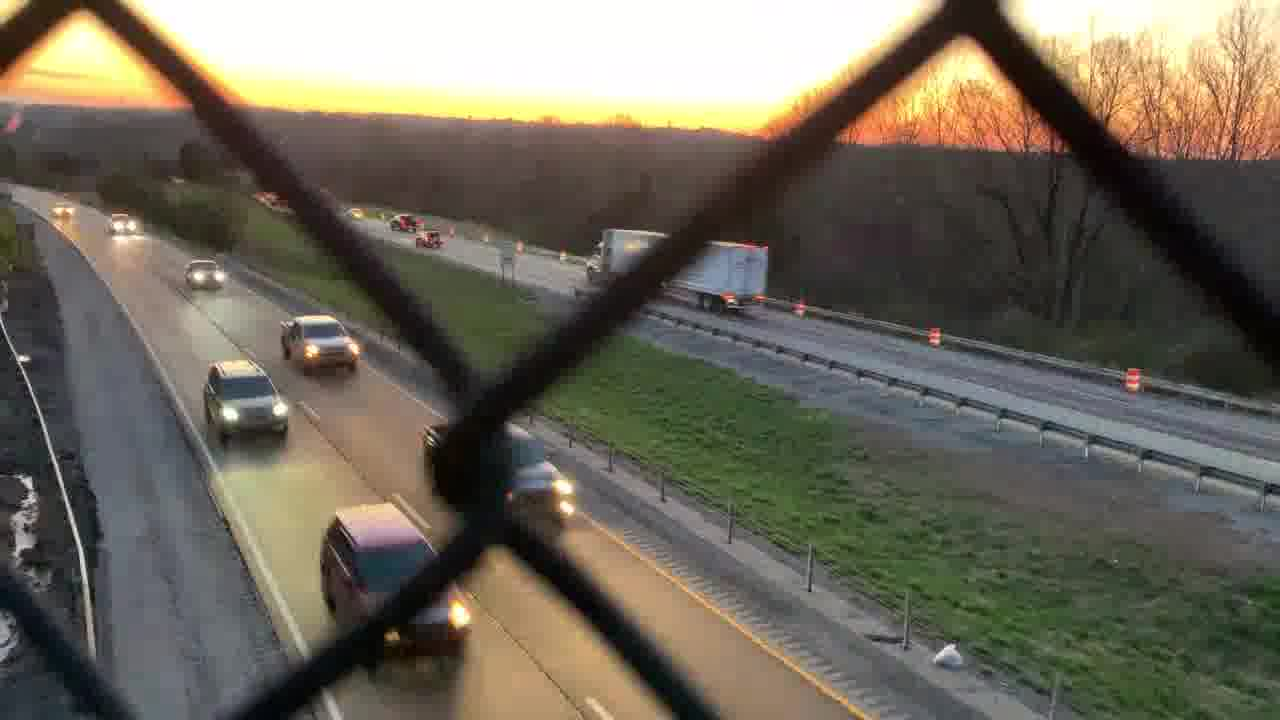heavyTruck: (586, 227, 772, 312)
largeCar: (318, 504, 473, 673), (192, 357, 294, 451)
lightTruck: (416, 417, 584, 542), (277, 313, 369, 373), (385, 211, 414, 232)
smallCar: (181, 256, 230, 290)
vehicle: (103, 211, 139, 237), (408, 229, 445, 252), (46, 199, 77, 218), (346, 207, 363, 222)
